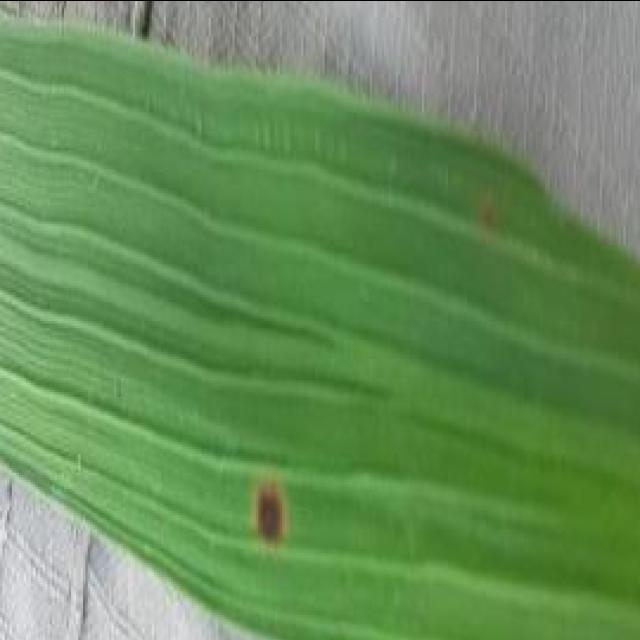Brown_Spot: (228, 453, 302, 557), (464, 185, 504, 237)
